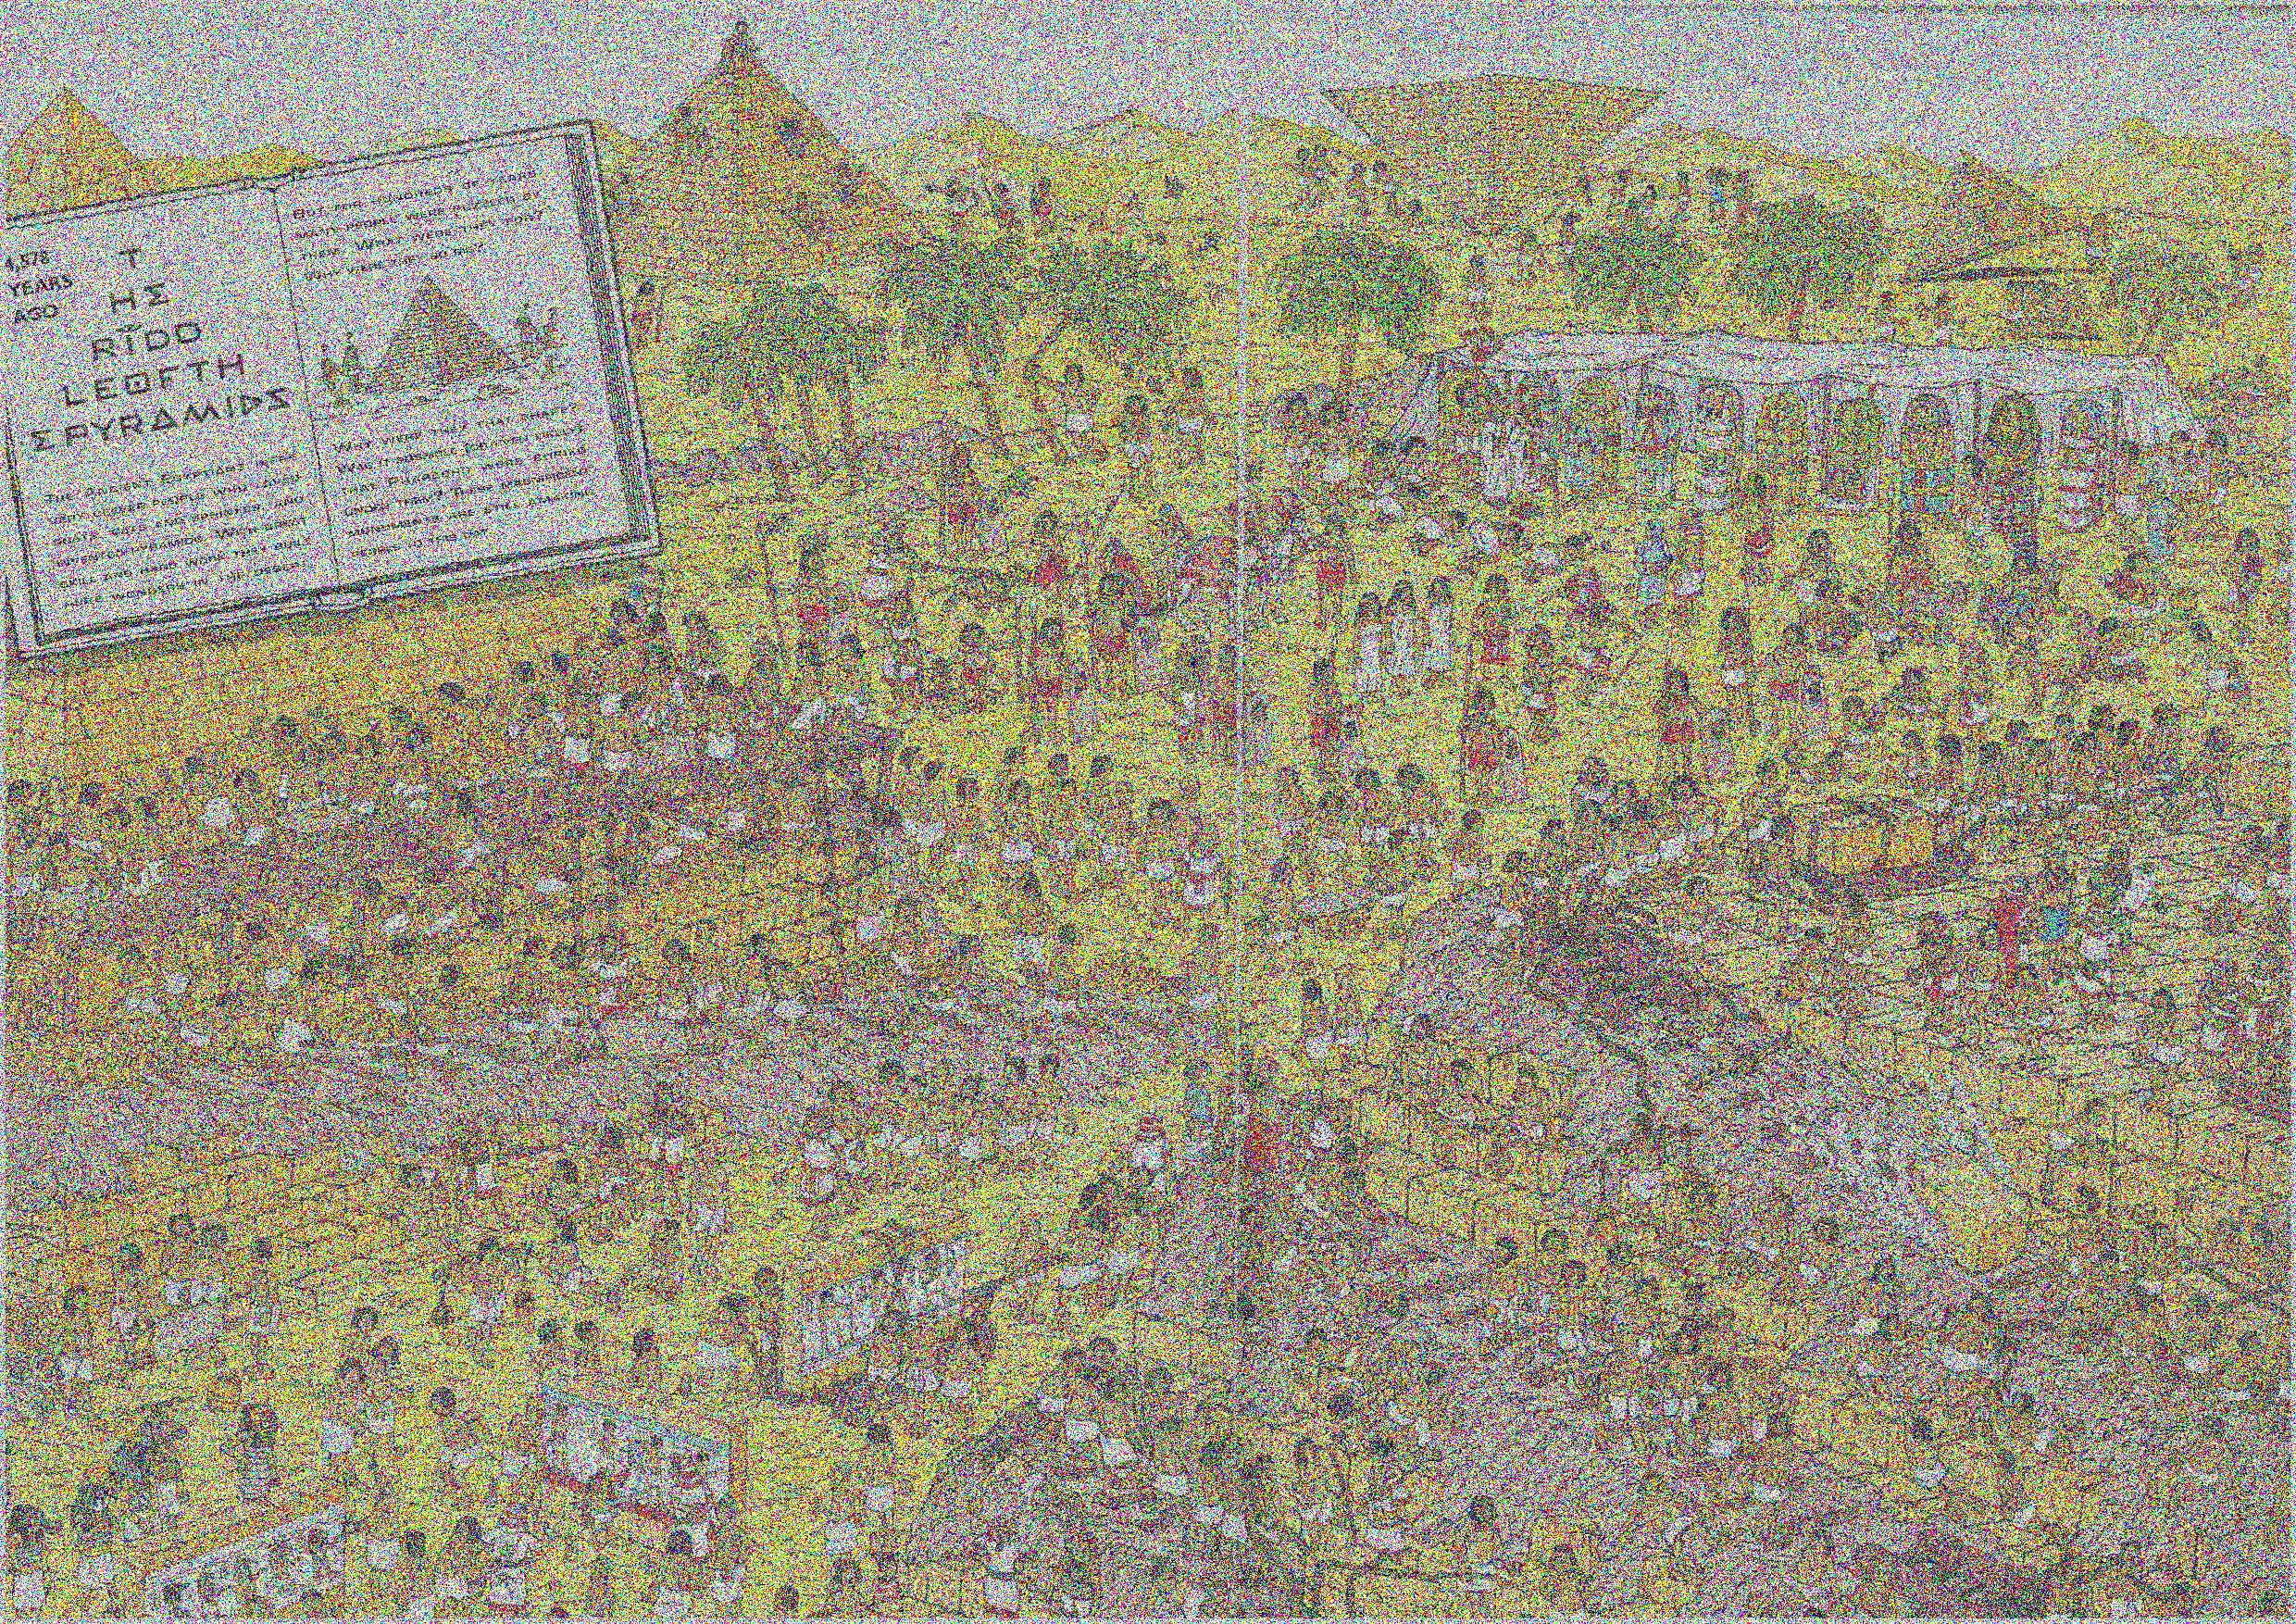waldos: (1994, 468, 2047, 568)
